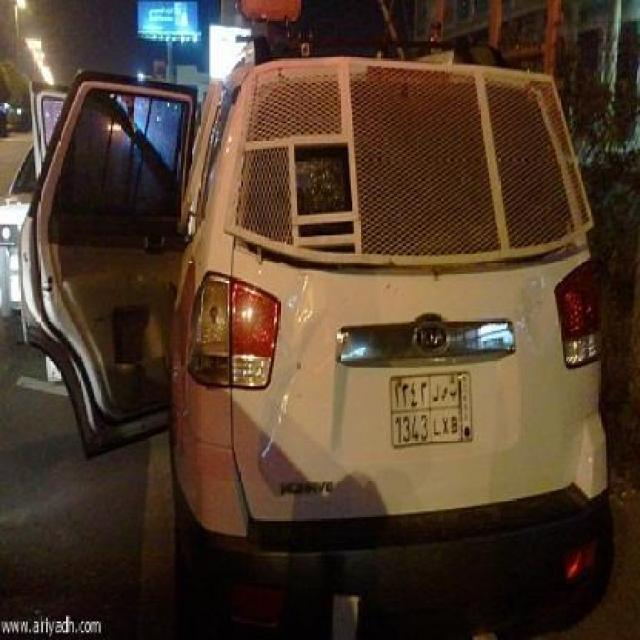license_plate: (388, 369, 474, 451)
